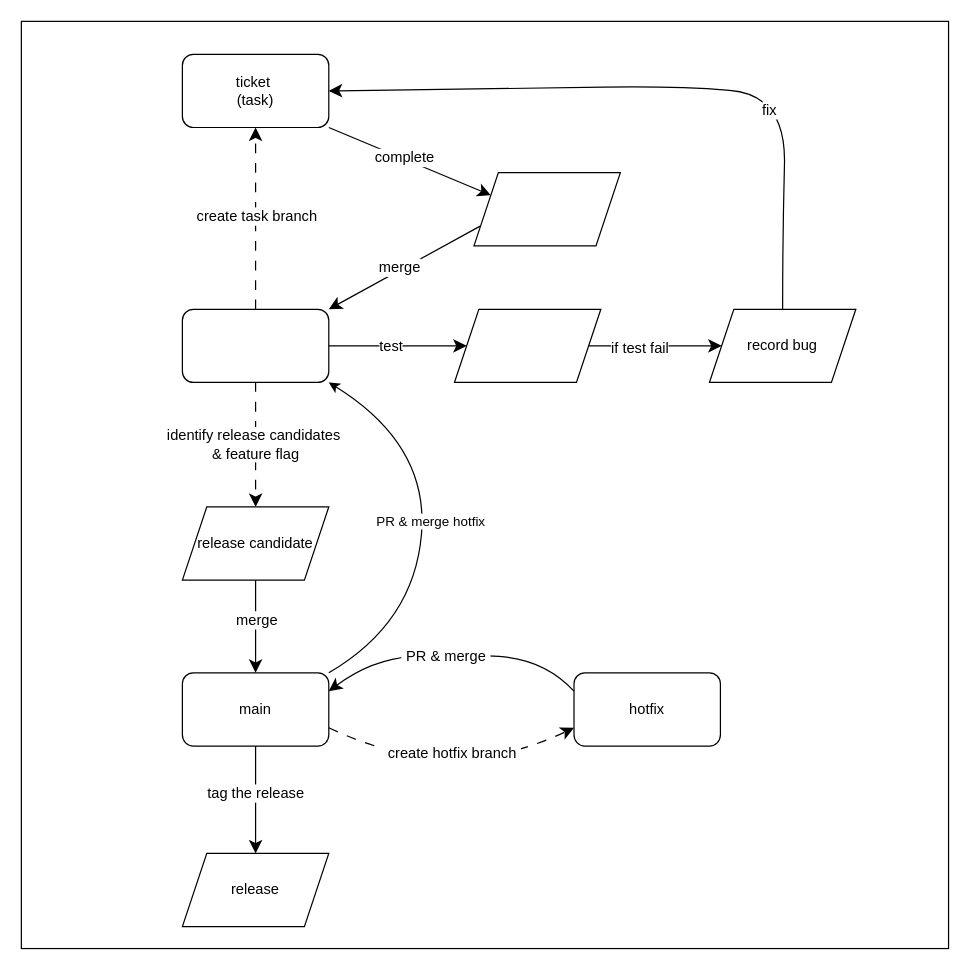
The diagram is 970 pixels wide and 970 high, and some of its shapes have lost their labels. Here are the shapes that lost their labels. From the top down, the centre of each, then its label:
(x=546, y=208): pull request
(x=255, y=345): develop
(x=527, y=345): test the ticket
